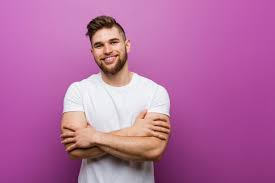white_male: (86, 29, 130, 76)
